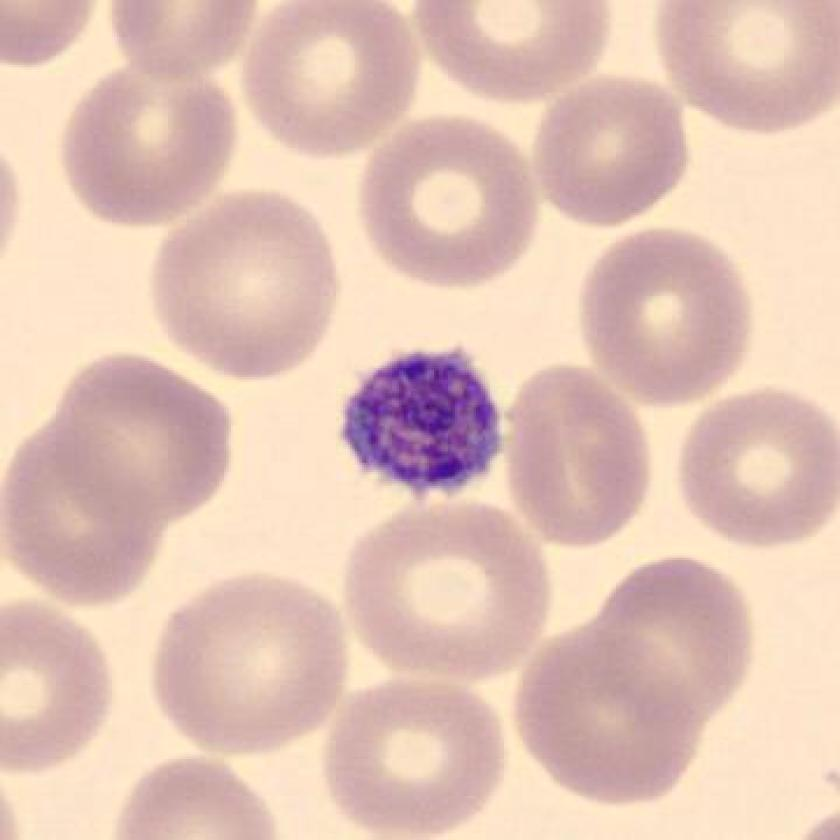platelets: (339, 346, 510, 505)
